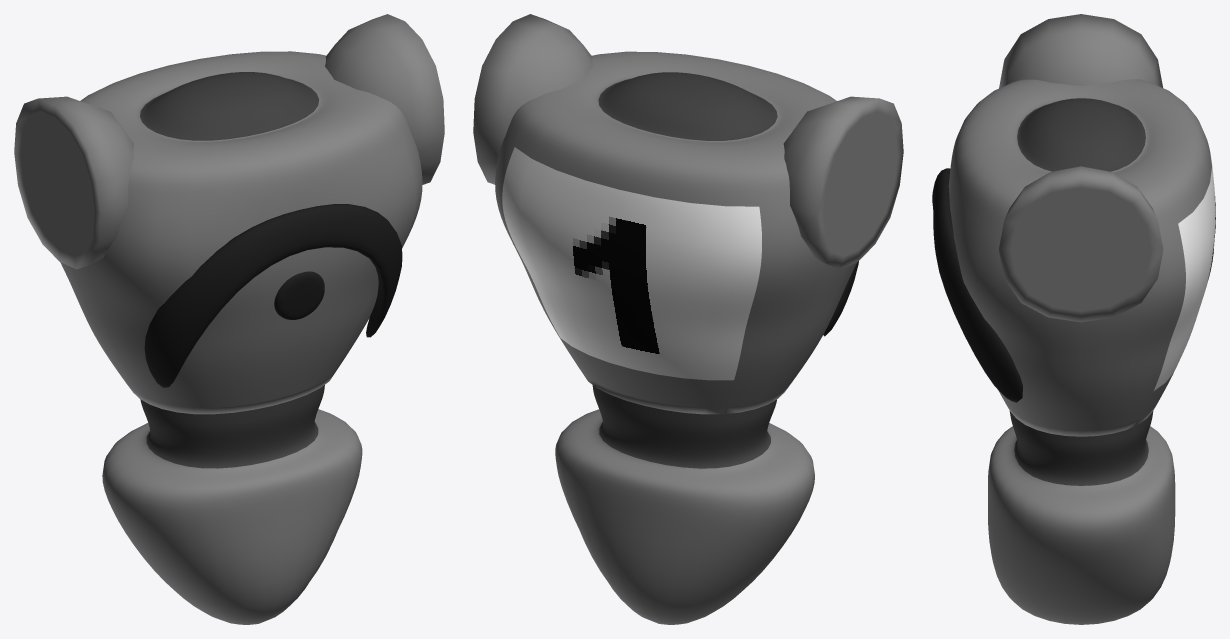
The model's file is naobody1G.obj.
3 views of the same model, side by side, from view 1: azimuth 30°, elevation 25°; view 2: azimuth 150°, elevation 25°; view 3: azimuth 270°, elevation 25° (orthographic). The views are drawn at different scales.
Visible parts, largest first — view 1: Cube, Cube.001_Cube.002, Cube.003, Cube.002_Cube.001, Circle; view 2: Cube, Cube.001_Cube.002, Cube.002_Cube.001; view 3: Cube, Cube.002_Cube.001, Cube.001_Cube.002, Cube.003.
Part boxes in pixels (x1=…): Cube: x1=60, y1=51, x2=422, y2=624; Cube.001_Cube.002: x1=14, y1=96, x2=134, y2=269; Cube.003: x1=144, y1=204, x2=402, y2=387; Cube.002_Cube.001: x1=325, y1=14, x2=444, y2=184; Circle: x1=274, y1=271, x2=324, y2=319; Cube: x1=495, y1=51, x2=856, y2=624; Cube.001_Cube.002: x1=783, y1=96, x2=903, y2=269; Cube.002_Cube.001: x1=473, y1=14, x2=592, y2=184; Cube: x1=948, y1=79, x2=1215, y2=624; Cube.002_Cube.001: x1=998, y1=166, x2=1163, y2=322; Cube.001_Cube.002: x1=999, y1=14, x2=1162, y2=88; Cube.003: x1=932, y1=168, x2=1022, y2=402.
Bounding box in the file's own units: 1.53 × 2.31 × 1.13.
